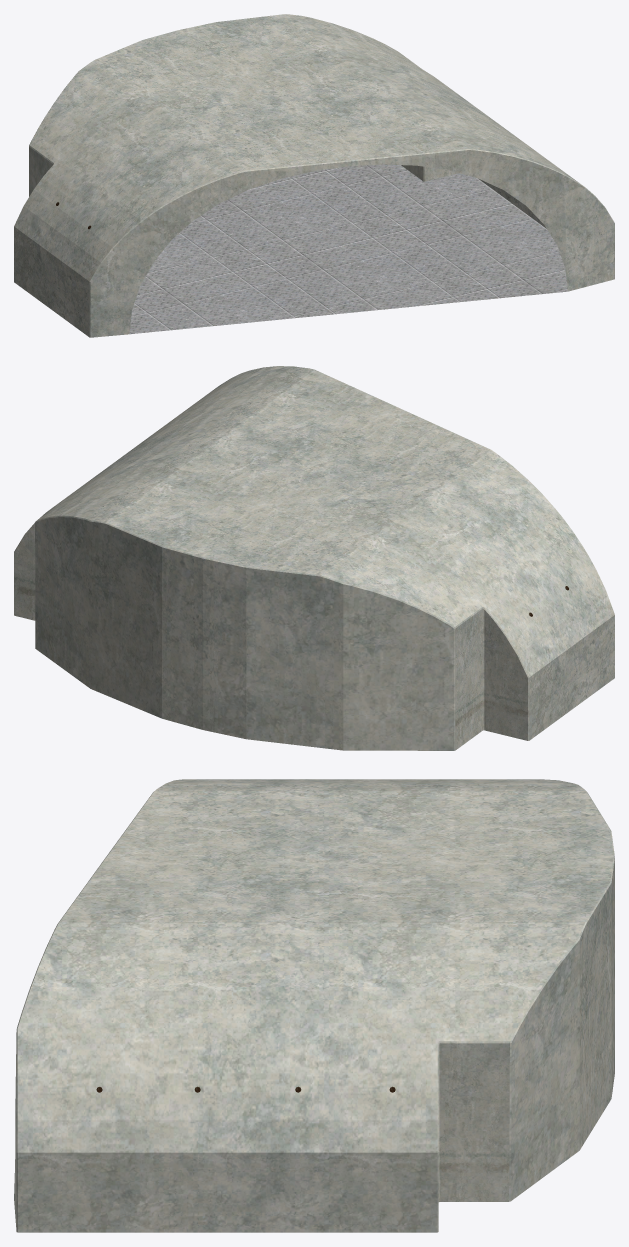
The model's file is thm_all_cantina_r8_stage_mesh_r8.fbx.
3 renders of one model, top to bottom at view 1: azimuth 30°, elevation 25°; view 2: azimuth 150°, elevation 25°; view 3: azimuth 270°, elevation 25°, orthographic. The views are drawn at different scales.
Visible parts, largest first — view 1: mesh_node; view 2: mesh_node; view 3: mesh_node.
Part boxes in pixels (bbox=[...]): mesh_node: bbox=[14, 14, 614, 337]; mesh_node: bbox=[14, 366, 614, 750]; mesh_node: bbox=[14, 779, 614, 1232].
Bounding box in the file's own units: 13 × 4.15 × 10.42.
